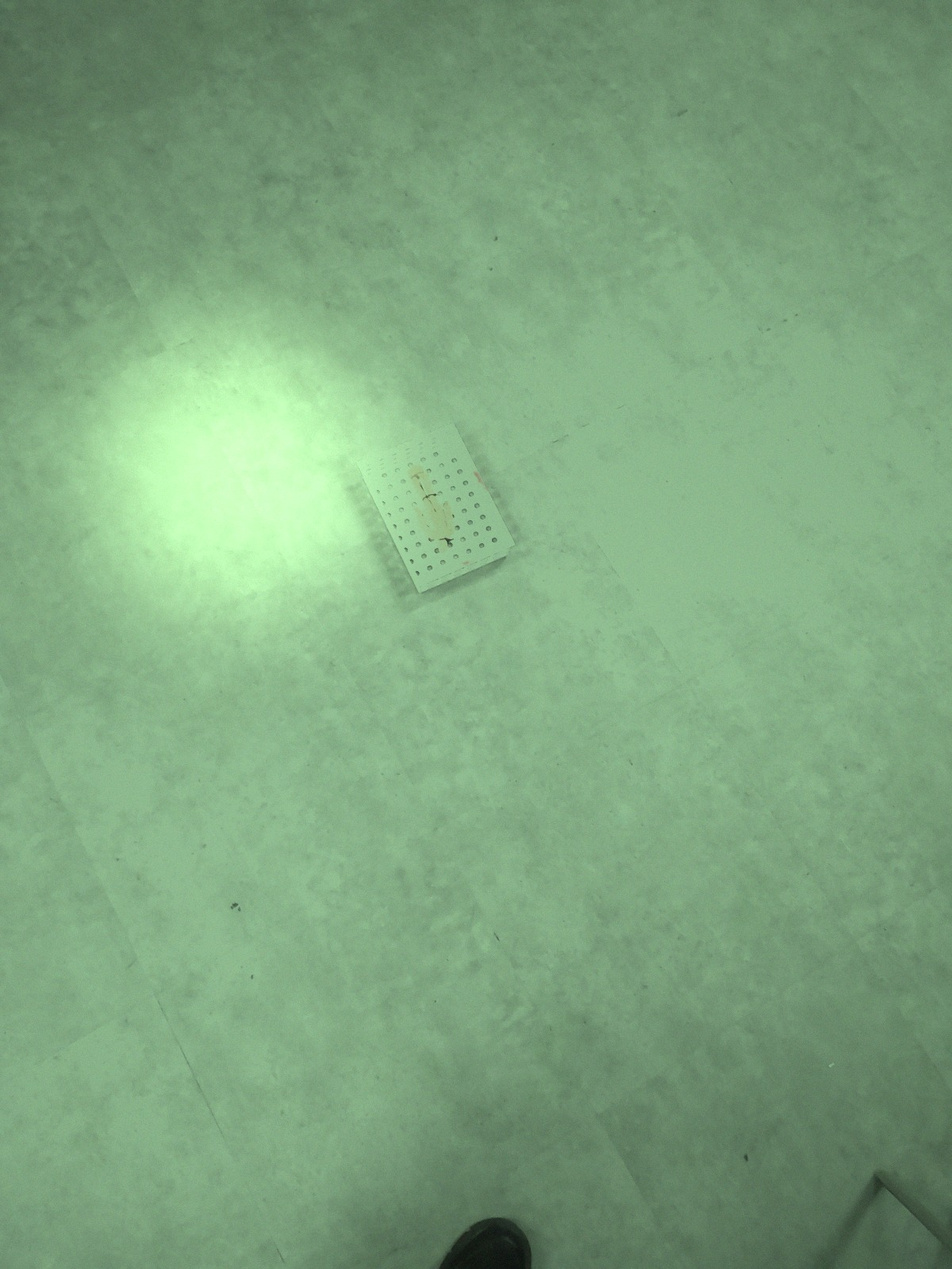basket: (355, 421, 516, 597)
mannequin: (405, 462, 459, 557)
